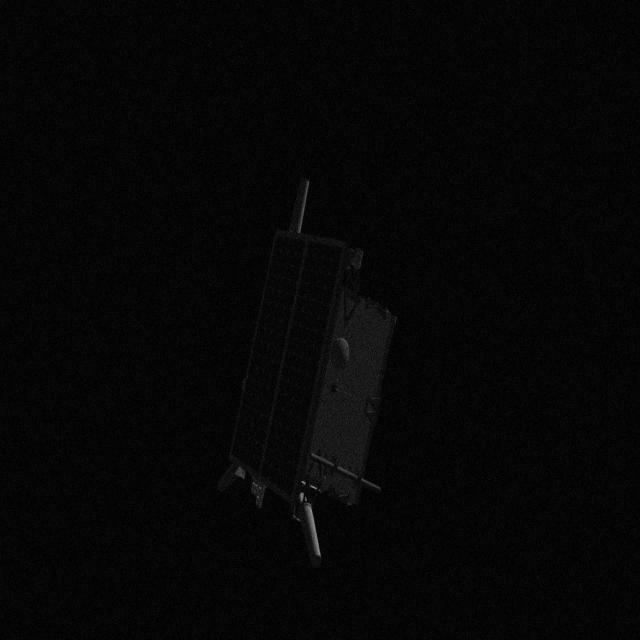medium_debris: (220, 176, 400, 560)
